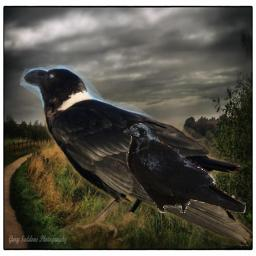Crow: (20, 62, 253, 246), (123, 123, 246, 213)
